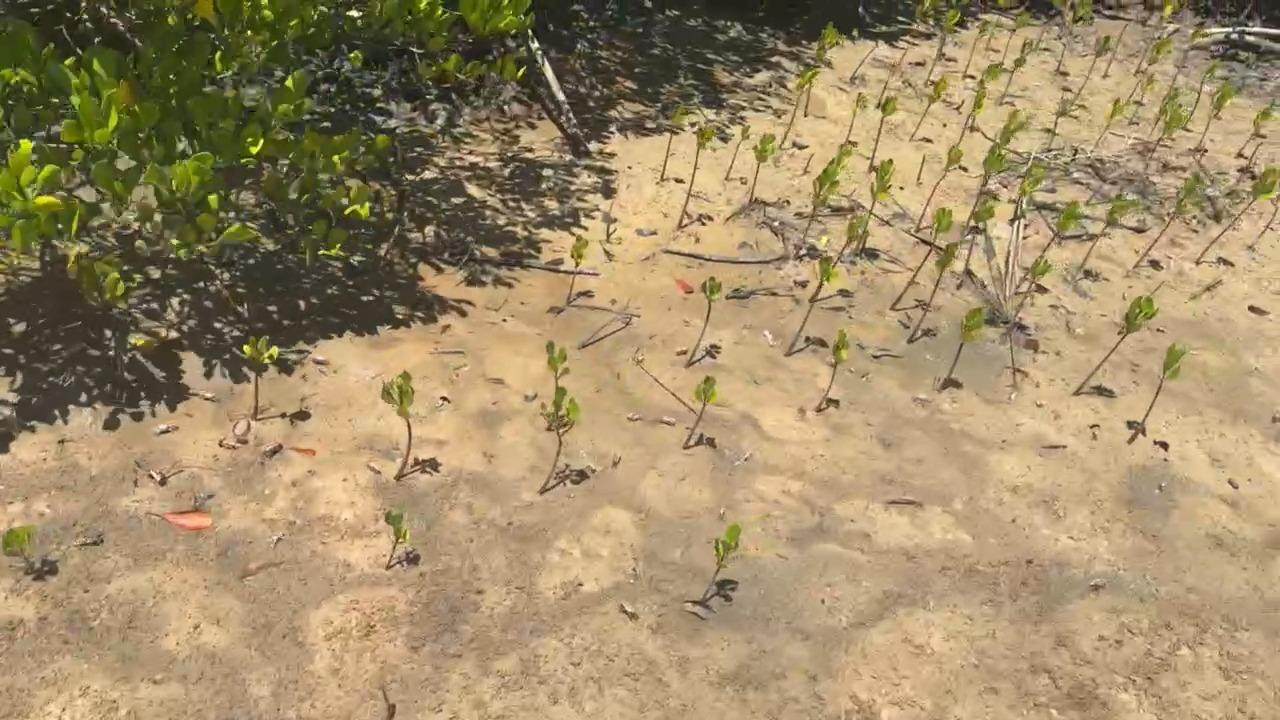Tree: (1073, 295, 1160, 394), (1194, 168, 1280, 261), (1135, 176, 1207, 274), (794, 145, 853, 258), (888, 209, 954, 310), (785, 258, 842, 358), (907, 242, 962, 342), (539, 343, 575, 495), (809, 214, 867, 305), (912, 147, 961, 234), (1080, 198, 1137, 271), (1141, 342, 1190, 425), (964, 144, 1012, 227), (676, 126, 714, 230), (802, 23, 843, 118), (380, 369, 415, 479), (857, 158, 896, 255), (938, 309, 983, 391), (983, 111, 1027, 189), (685, 276, 723, 366), (701, 523, 745, 600), (1134, 0, 1179, 75), (813, 330, 853, 412), (779, 63, 817, 147), (1127, 36, 1173, 105), (243, 334, 279, 419), (1052, 0, 1091, 74), (926, 4, 962, 81), (1196, 81, 1237, 147), (909, 77, 951, 141), (1234, 103, 1280, 159), (900, 0, 938, 67), (684, 375, 718, 448), (970, 62, 1004, 134), (965, 198, 998, 270), (1078, 33, 1115, 96), (866, 98, 898, 169), (1014, 255, 1049, 319), (1149, 108, 1189, 164), (1042, 202, 1082, 257), (955, 87, 989, 150), (1185, 62, 1220, 123), (1170, 27, 1205, 86), (659, 107, 686, 181), (1032, 0, 1068, 53), (750, 133, 777, 202), (998, 11, 1032, 65), (961, 17, 991, 78), (723, 124, 754, 182), (1047, 93, 1078, 150), (1014, 168, 1046, 223), (1126, 71, 1157, 125), (2, 526, 36, 574), (565, 235, 589, 302), (385, 510, 412, 569), (1093, 101, 1126, 147), (1150, 88, 1182, 135), (1000, 56, 1030, 104), (1103, 24, 1129, 77), (1255, 194, 1280, 248), (850, 44, 879, 81), (844, 91, 862, 141), (604, 201, 618, 243), (876, 72, 891, 107), (1243, 143, 1263, 168), (915, 155, 927, 181), (800, 153, 814, 174)
